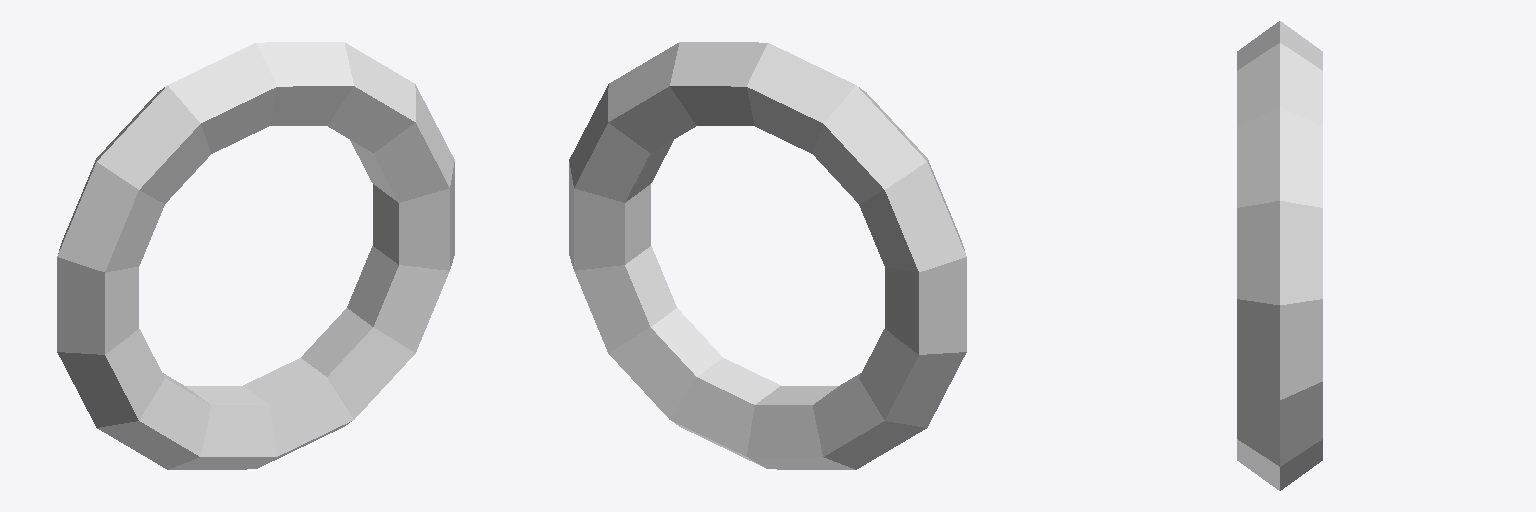
File: cmn_obj_ring_SD.obj
The picture shows the model from 3 angles: view 1: azimuth 30°, elevation 25°; view 2: azimuth 150°, elevation 25°; view 3: azimuth 270°, elevation 25°; orthographic projection.
Visible parts, largest first — view 1: polygon0; view 2: polygon0; view 3: polygon0.
Boxes of the visible parts, x1=… form: polygon0: x1=57, y1=42, x2=454, y2=469; polygon0: x1=569, y1=42, x2=966, y2=469; polygon0: x1=1237, y1=21, x2=1322, y2=490.
Bounding box in the file's own units: 5.79 × 5.94 × 1.08.